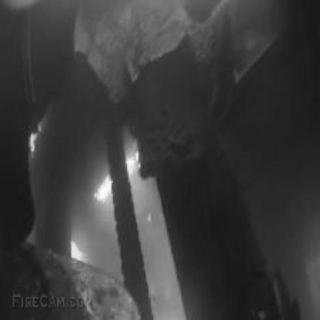Fire: (90, 167, 113, 201), (122, 148, 140, 176)
